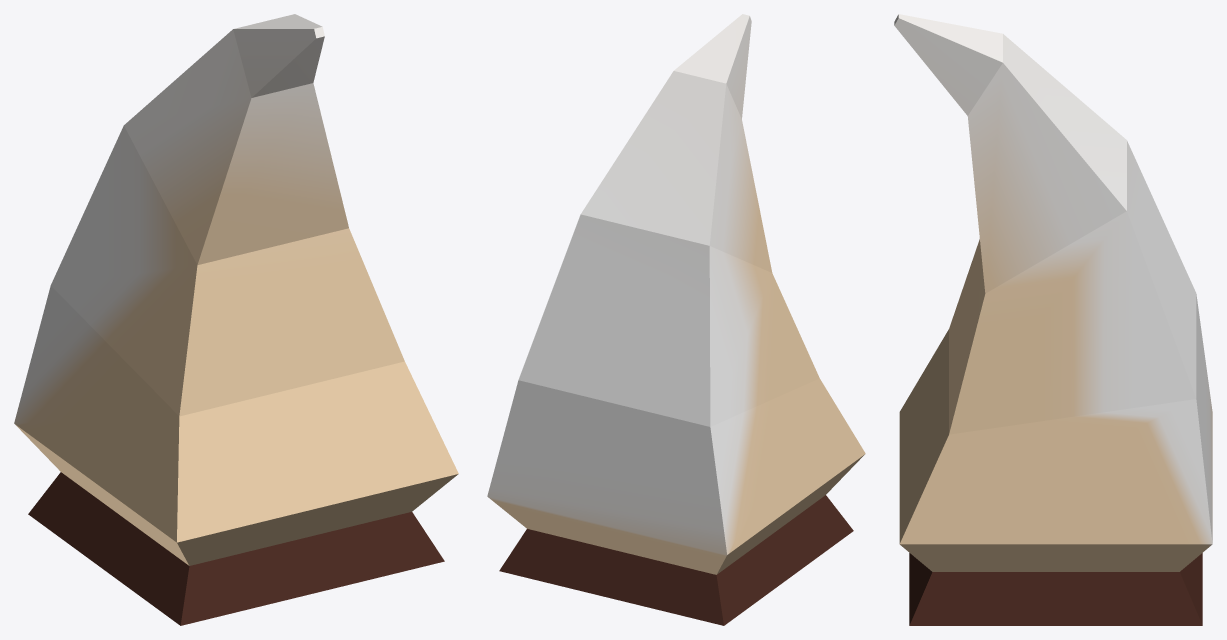
Rendered from Teeth.fbx.
The picture shows the model from 3 angles, left to right: view 1: azimuth 30°, elevation 25°; view 2: azimuth 150°, elevation 25°; view 3: azimuth 270°, elevation 25°; orthographic projection. The views are drawn at different scales.
Parts seen in each view (by area): view 1: GiantTooth; view 2: GiantTooth; view 3: GiantTooth.
Part boxes in pixels (<box>): GiantTooth: <box>14,14,458,625</box>; GiantTooth: <box>487,14,865,625</box>; GiantTooth: <box>894,14,1212,625</box>.
Size of the model in its own units: 213 by 412 by 217.
